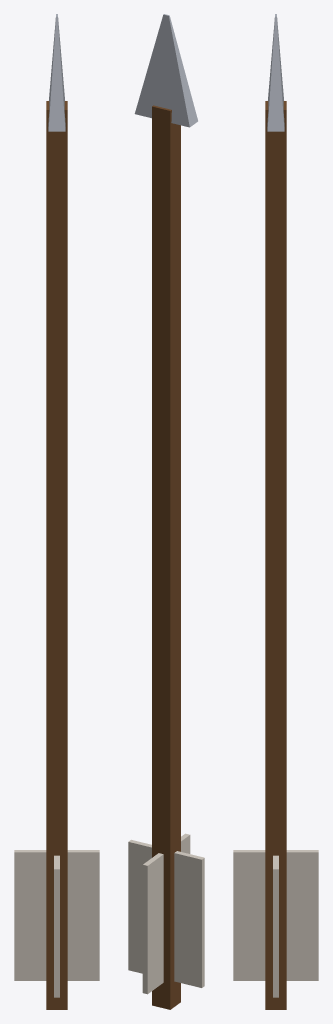
File: arrow.glb
3 views of the same model, side by side, from view 1: azimuth 90°, elevation 25°; view 2: azimuth 150°, elevation 25°; view 3: azimuth 270°, elevation 25° (orthographic).
Visible parts, largest first — view 1: arrow; view 2: arrow; view 3: arrow.
Part boxes in pixels (x1,y1,x2,y2): arrow: [14, 14, 99, 1009]; arrow: [128, 14, 204, 1009]; arrow: [233, 14, 318, 1009].
Bounding box in the file's own units: 0.06 × 0.77 × 0.06.
